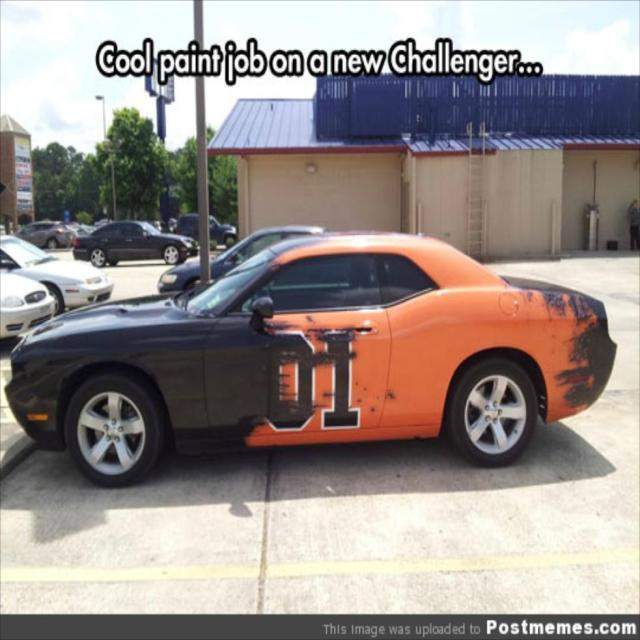Car: (3, 230, 616, 489), (159, 225, 323, 288), (14, 220, 240, 264), (0, 231, 111, 311), (0, 269, 56, 348)
